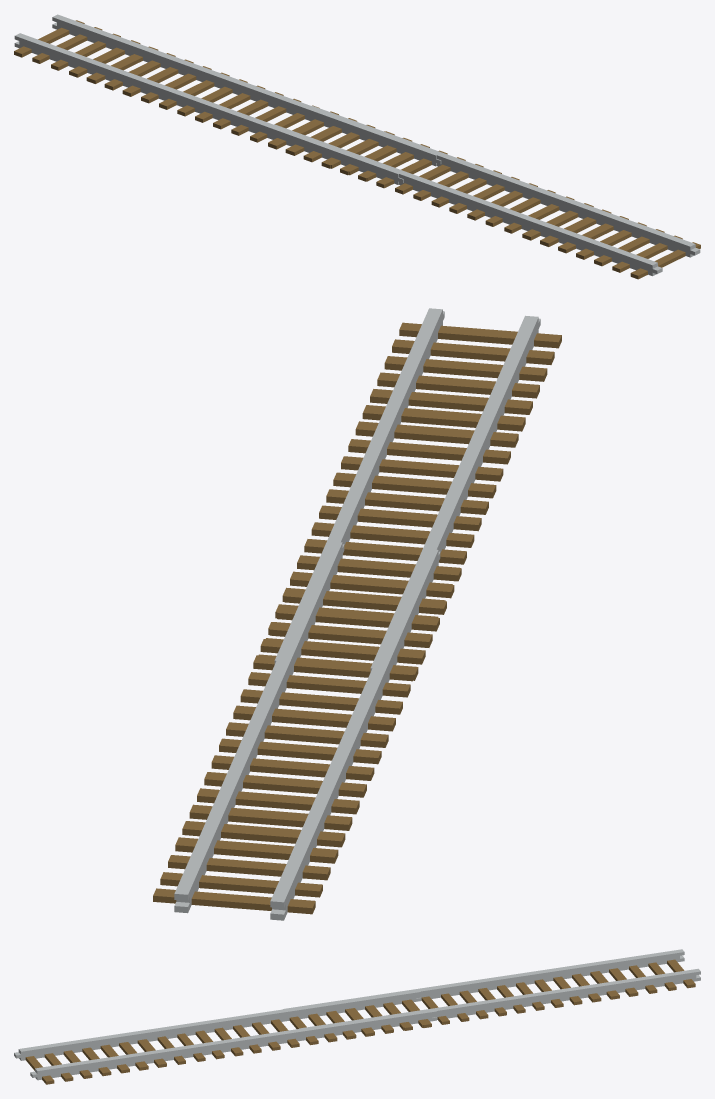
File: track_bent.glb
3 renders of one model, top to bottom at view 1: azimuth 30°, elevation 25°; view 2: azimuth 150°, elevation 25°; view 3: azimuth 270°, elevation 25°, orthographic. The views are drawn at different scales.
Parts seen in each view (by area): view 1: Mesh_Mesh_head_geo.001_lambert2SG.001; view 2: Mesh_Mesh_head_geo.001_lambert2SG.001; view 3: Mesh_Mesh_head_geo.001_lambert2SG.001.
Boxes of the visible parts, <box> form: Mesh_Mesh_head_geo.001_lambert2SG.001: <box>14,14,700,279</box>; Mesh_Mesh_head_geo.001_lambert2SG.001: <box>153,308,561,920</box>; Mesh_Mesh_head_geo.001_lambert2SG.001: <box>14,949,700,1084</box>.
Size of the model in its own units: 90.99 by 3 by 203.
